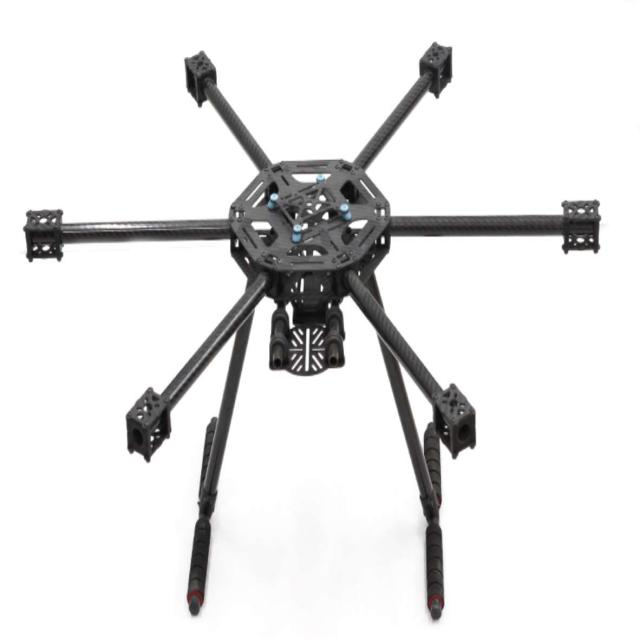drone: (0, 33, 634, 561)
